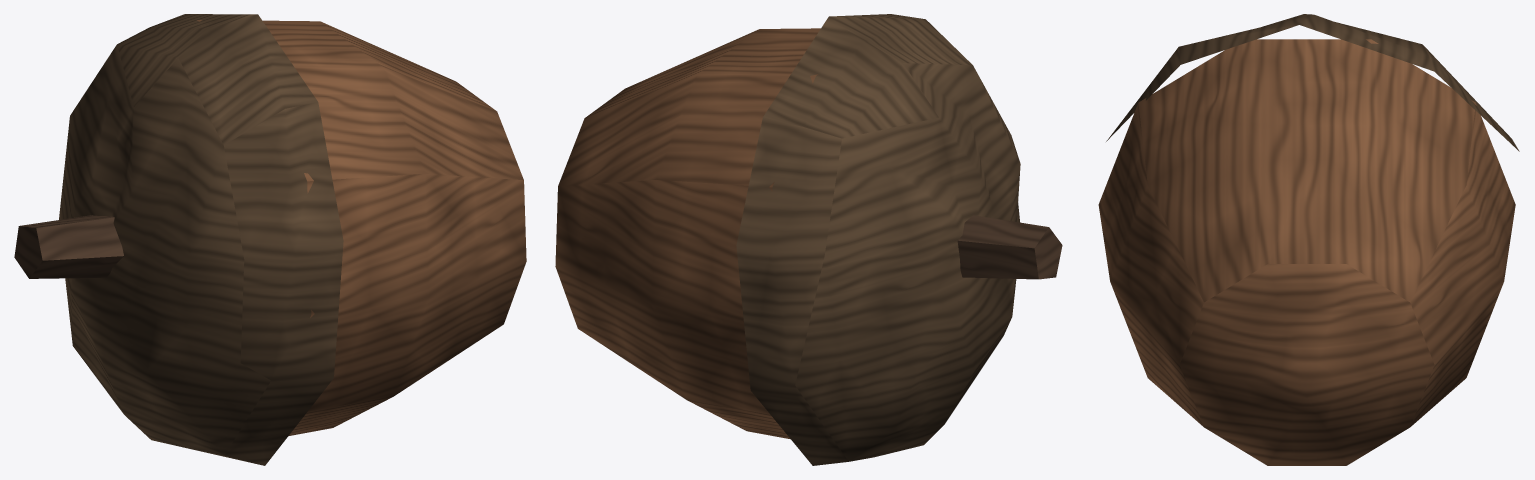
The model's file is acorn.glb.
The picture shows the model from 3 angles, left to right: view 1: azimuth 30°, elevation 25°; view 2: azimuth 150°, elevation 25°; view 3: azimuth 270°, elevation 25°; orthographic projection. The views are drawn at different scales.
Parts seen in each view (by area): view 1: group_0; view 2: group_0; view 3: group_0.
Part boxes in pixels (left/top/right/bottom): group_0: left=14, top=14, right=526, bottom=465; group_0: left=555, top=14, right=1062, bottom=465; group_0: left=1098, top=14, right=1519, bottom=465.
Bounding box in the file's own units: 5.85 × 4.89 × 4.63.
Materials: 3 (3 with a texture image).
